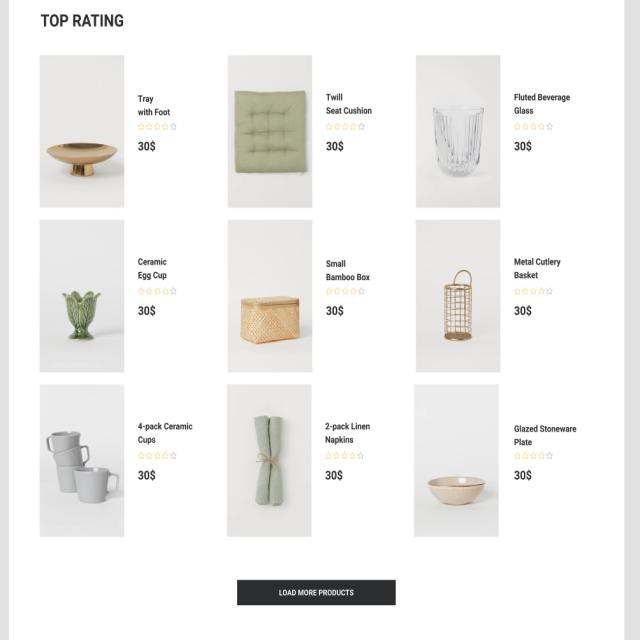LoadMoreProductsButton: (233, 576, 398, 608)
ProductTile: (38, 53, 190, 209)
ProductTileName: (134, 92, 177, 119)
ProductTilePrice: (133, 136, 158, 154)
ProductTileRatings: (133, 120, 180, 133)
